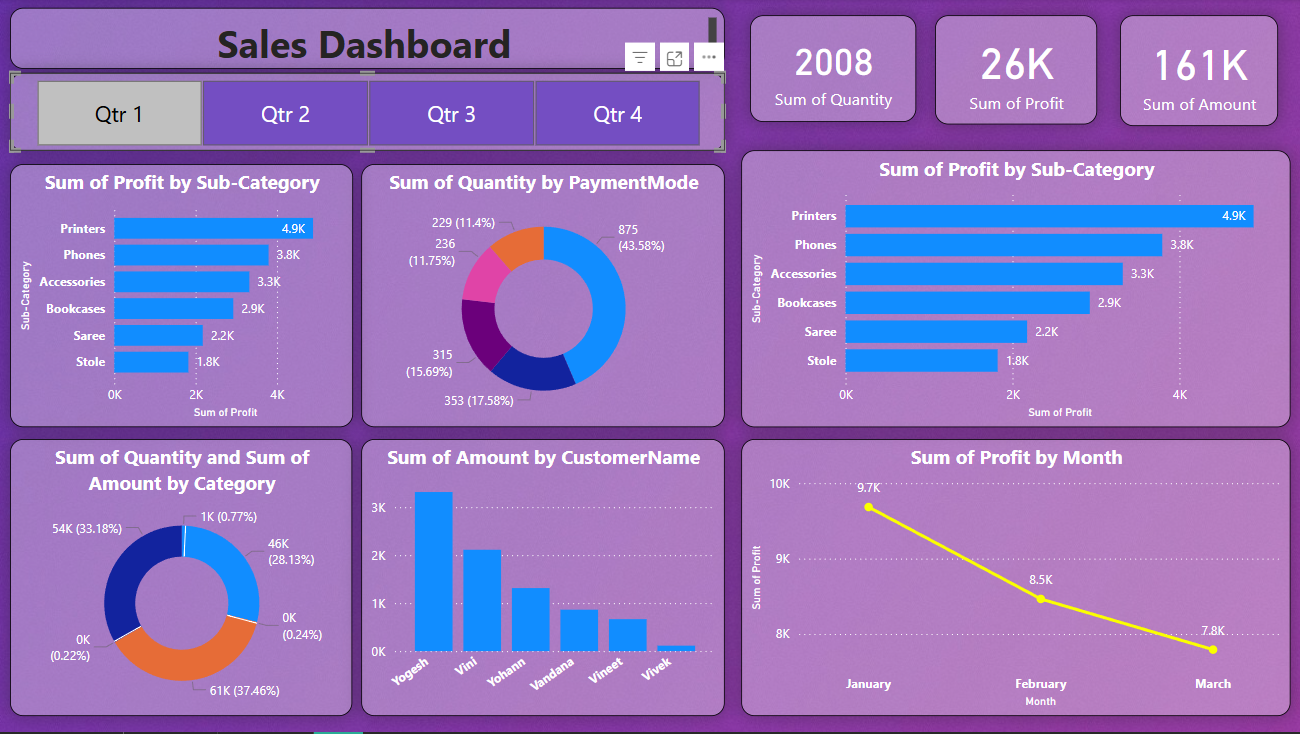

What the dashboard file says about the page in this screenshot:
{"tool":"powerbi","page":{"name":"Page 1","canvas":[1280,720],"ordinal":0},"visuals":[{"type":"textbox","box":[9.6,8.4,701.9,60.3],"z":0},{"type":"lineChart","fields":{"Category":["Orders.Order Date.Variation.Date Hierarchy.Month"],"Y":["Sum(Details.Profit)"]},"box":[727.7,431.8,539.4,271.7],"z":1000},{"type":"barChart","fields":{"Y":["Sum(Details.Profit)"],"Category":["Details.Sub-Category"]},"box":[727.7,148,539.4,271.7],"z":2000},{"type":"donutChart","fields":{"Y":["Sum(Details.Quantity)","Sum(Details.Amount)"],"Category":["Details.Category"]},"box":[9.4,431.8,336.3,271.7],"z":3000},{"type":"donutChart","fields":{"Y":["Sum(Details.Quantity)"],"Category":["Details.PaymentMode"]},"box":[354.6,161.6,357,258.1],"z":4000},{"type":"card","fields":{"Values":["Sum(Details.Amount)"]},"box":[1099.9,15.7,155.6,108.5],"z":5000},{"type":"card","fields":{"Values":["Sum(Details.Profit)"]},"box":[917.8,15.7,159.2,107.3],"z":6000},{"type":"card","fields":{"Values":["Sum(Details.Quantity)"]},"box":[735.7,15.7,162.8,104.9],"z":7000},{"type":"barChart","fields":{"Y":["Sum(Details.Profit)"],"Category":["Details.Sub-Category"]},"box":[9.6,161.6,336.5,258.1],"z":8000},{"type":"lineStackedColumnComboChart","fields":{"Category":["Orders.CustomerName"],"Y":["Sum(Details.Amount)"]},"box":[355.1,431.8,356.5,271.7],"z":9000},{"type":"slicer","fields":{"Values":["Orders.Order Date.Variation.Date Hierarchy.Quarter"]},"box":[9.6,72.4,701.9,77.2],"z":10000}]}

Visuals, with their boxes in screenshot pixels (x1, y1, x2, y2), scaled from the page's 1280x720 canvas onto the 1300x734 screenshot:
textbox: [x1=10, y1=9, x2=723, y2=70]
lineChart - Orders.Order Date.Variation.Date Hierarchy.Month x Sum(Details.Profit): [x1=739, y1=440, x2=1287, y2=717]
barChart - Sum(Details.Profit) x Details.Sub-Category: [x1=739, y1=151, x2=1287, y2=428]
donutChart - Sum(Details.Quantity) x Sum(Details.Amount): [x1=10, y1=440, x2=351, y2=717]
donutChart - Sum(Details.Quantity) x Details.PaymentMode: [x1=360, y1=165, x2=723, y2=428]
card - Sum(Details.Amount): [x1=1117, y1=16, x2=1275, y2=127]
card - Sum(Details.Profit): [x1=932, y1=16, x2=1094, y2=125]
card - Sum(Details.Quantity): [x1=747, y1=16, x2=913, y2=123]
barChart - Sum(Details.Profit) x Details.Sub-Category: [x1=10, y1=165, x2=352, y2=428]
lineStackedColumnComboChart - Orders.CustomerName x Sum(Details.Amount): [x1=361, y1=440, x2=723, y2=717]
slicer - Orders.Order Date.Variation.Date Hierarchy.Quarter: [x1=10, y1=74, x2=723, y2=153]
